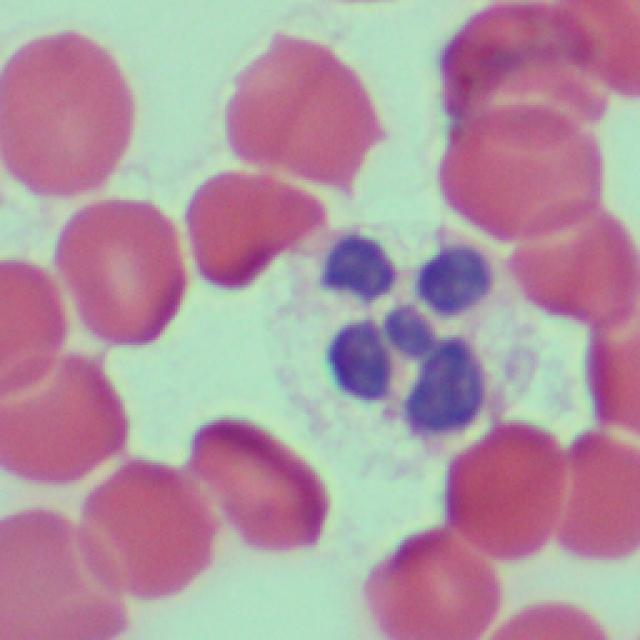RBC: (436, 0, 606, 252), (222, 14, 373, 202), (0, 11, 126, 205), (190, 411, 331, 557), (54, 193, 185, 348), (505, 182, 639, 326), (72, 460, 206, 603), (0, 350, 120, 502), (182, 167, 316, 300), (448, 414, 564, 562), (360, 526, 497, 638), (534, 413, 637, 561), (581, 265, 640, 426), (552, 0, 636, 100)
WBC: (287, 212, 529, 453)
